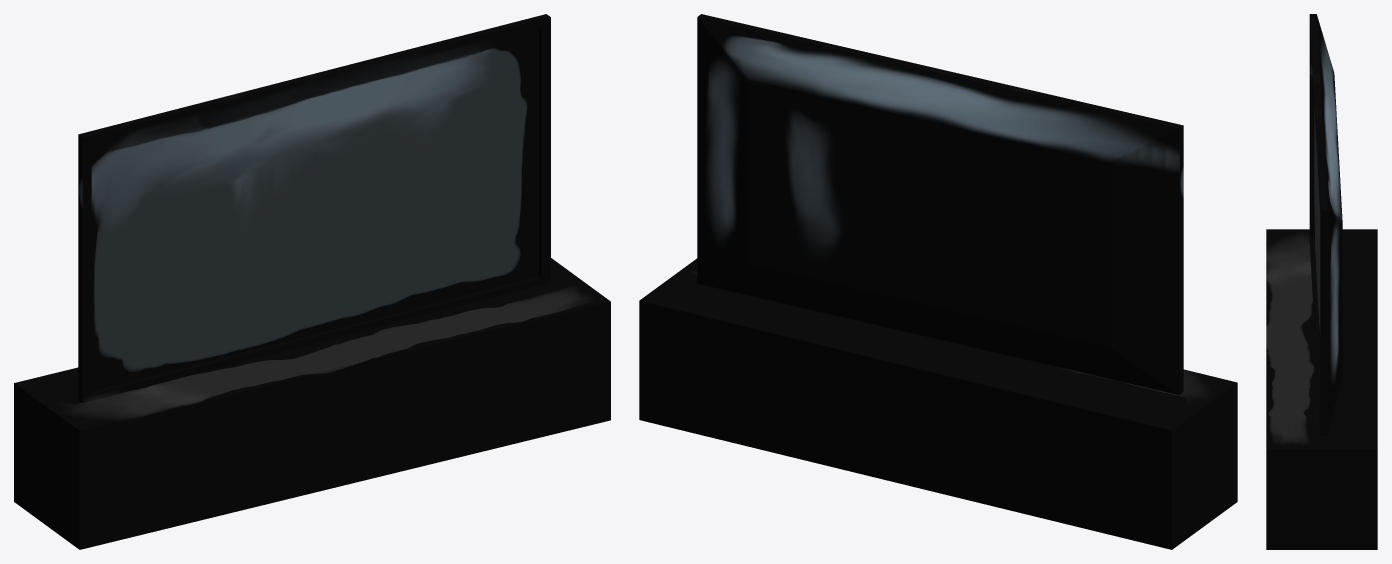
Rendered from M_TVMonitor.fbx.
The picture shows the model from 3 angles, left to right: view 1: azimuth 30°, elevation 25°; view 2: azimuth 150°, elevation 25°; view 3: azimuth 270°, elevation 25°; orthographic projection. The views are drawn at different scales.
Parts seen in each view (by area): view 1: TVMonitor; view 2: TVMonitor; view 3: TVMonitor.
Boxes of the visible parts, x1,y1,x2,y2 form: TVMonitor: [14, 14, 610, 549]; TVMonitor: [639, 14, 1237, 549]; TVMonitor: [1266, 14, 1377, 549].
Bounding box in the file's own units: 114 × 24.38 × 79.36.
